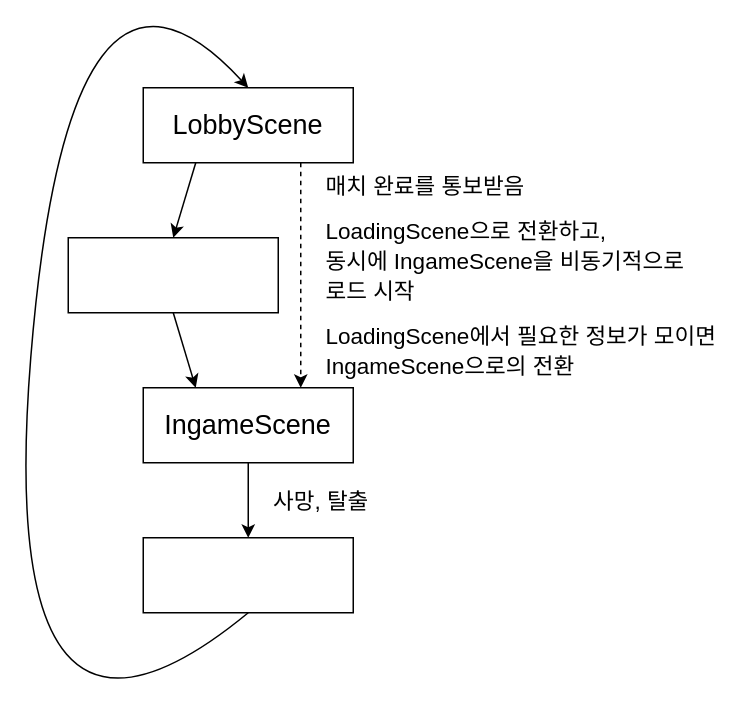
Some shapes in this 755 by 705 pixel diagram are drawn without their labels. Each missing label, with the centre of its shape:
LoadingScene: the point at 172,274
ResultScene: the point at 247,574
